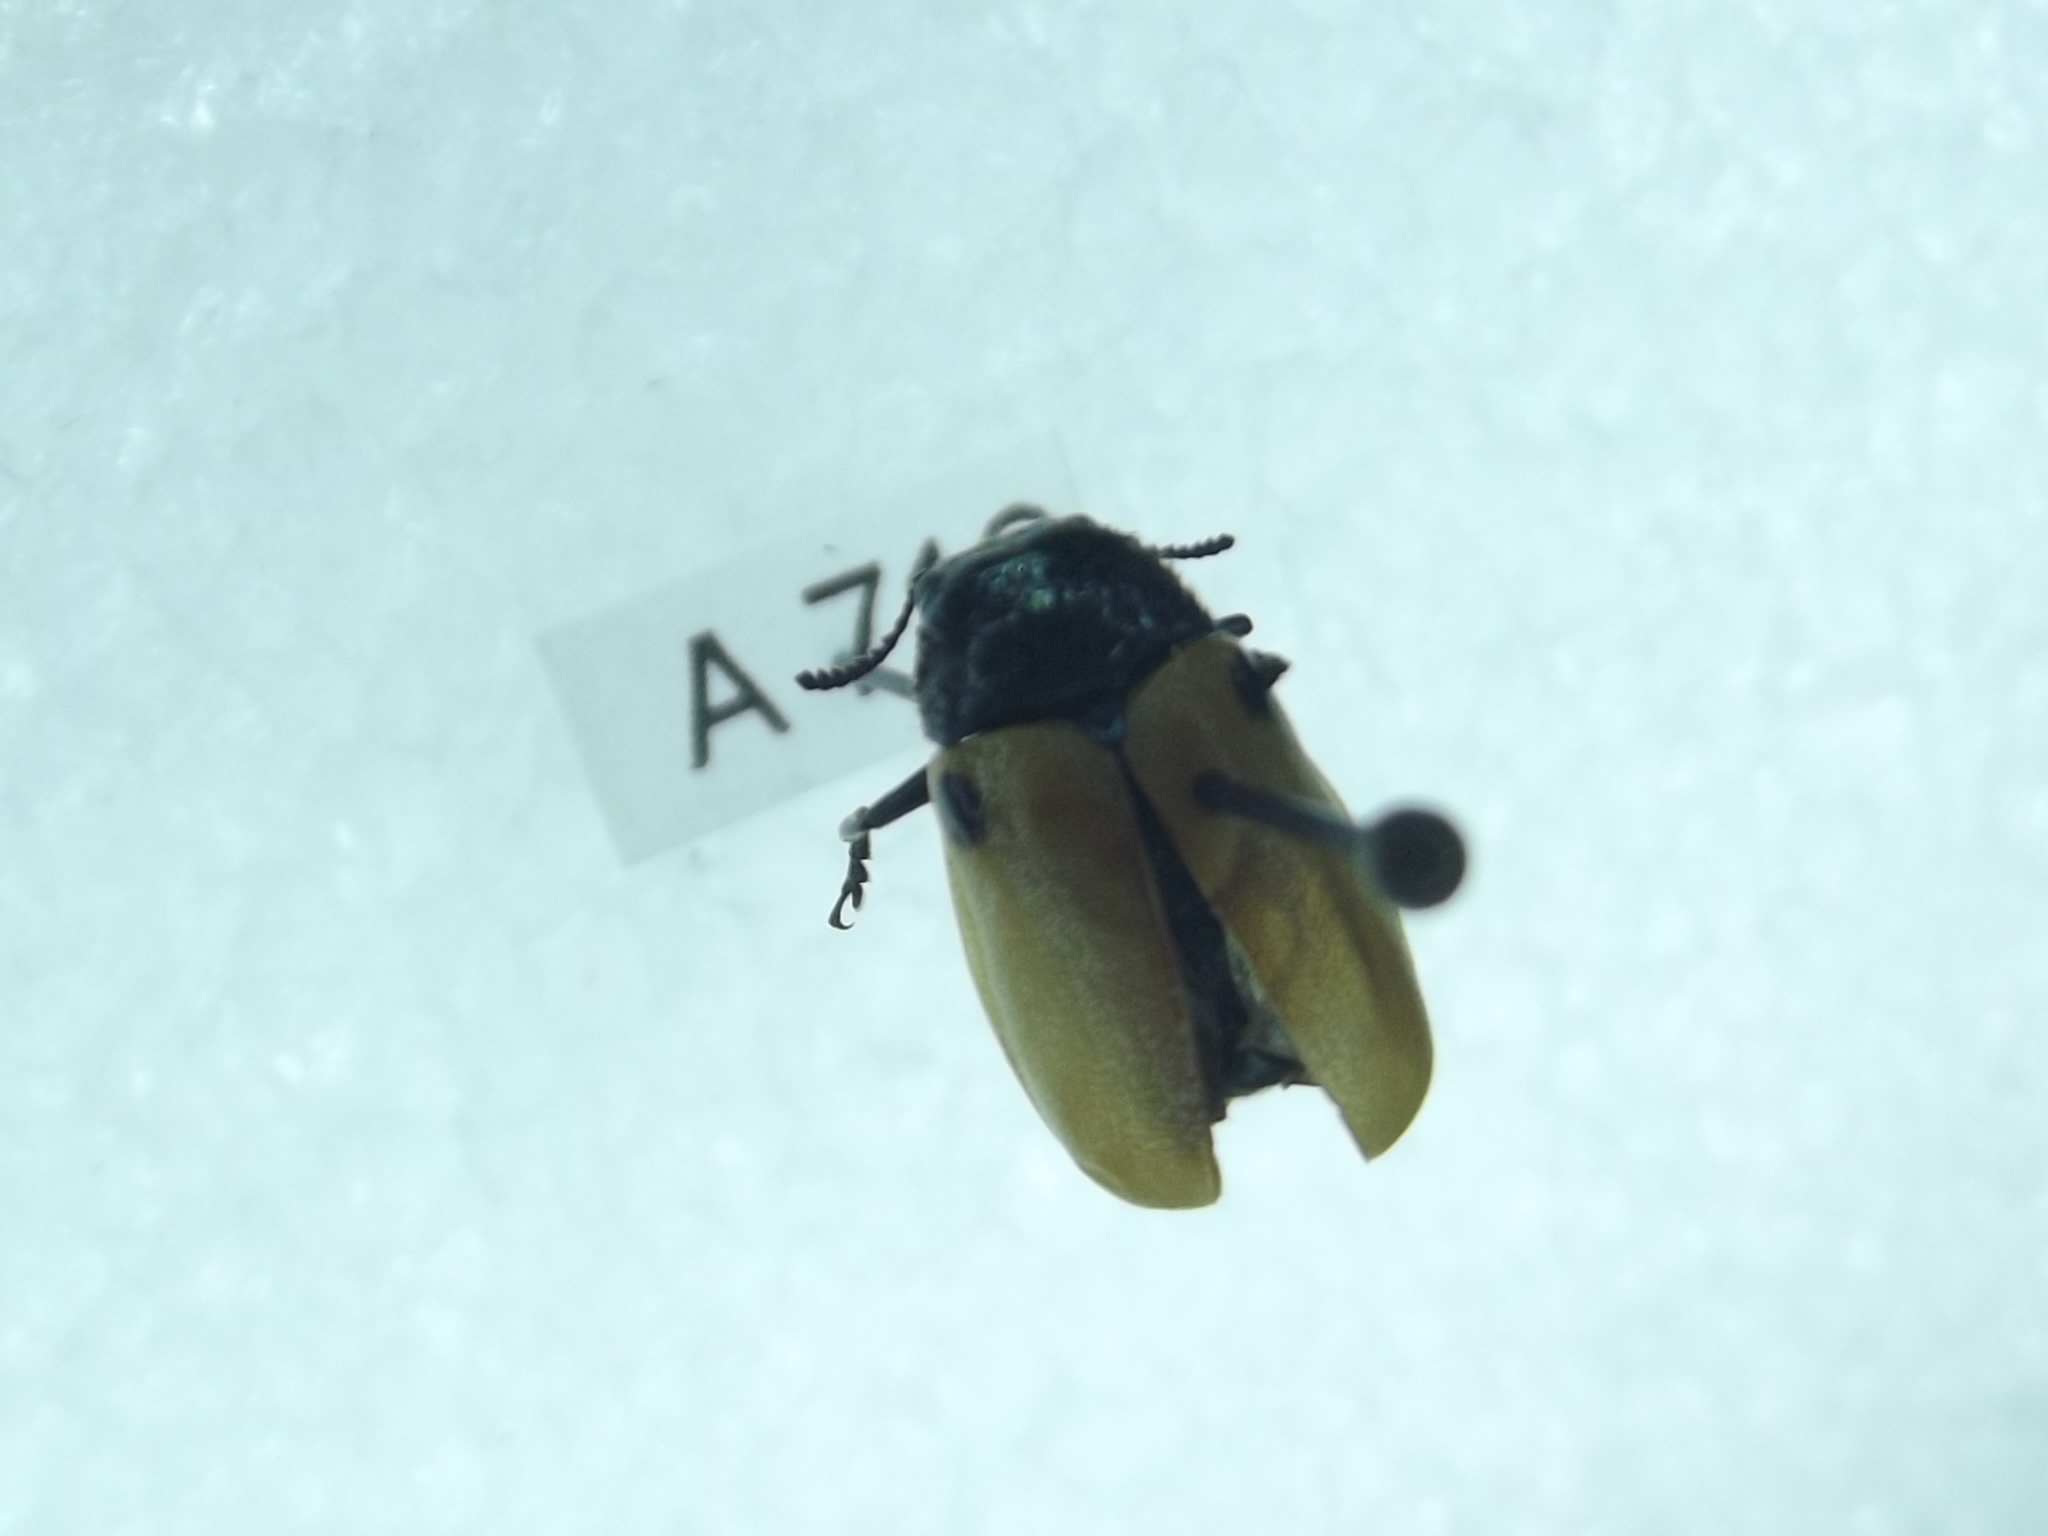Labidostomis_propinqua: (793, 487, 1450, 1221)
